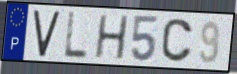5: (130, 14, 161, 63)
9: (198, 19, 223, 65)
C: (160, 17, 194, 64)
H: (93, 13, 130, 61)
L: (62, 11, 89, 61)
V: (32, 10, 62, 59)
